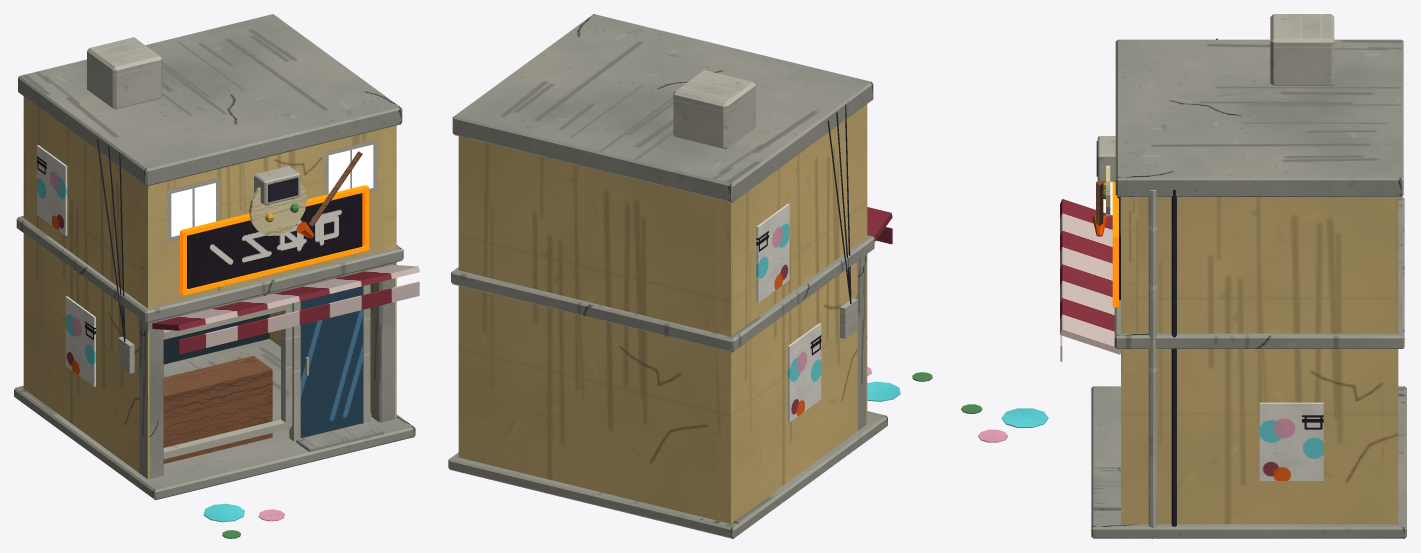
File: servico_design-grafico.glb
3 views of the same model, side by side, from view 1: azimuth 30°, elevation 25°; view 2: azimuth 150°, elevation 25°; view 3: azimuth 270°, elevation 25° (orthographic). The views are drawn at different scales.
Visible parts, largest first — view 1: servico_design-grafico; view 2: servico_design-grafico; view 3: servico_design-grafico.
Boxes of the visible parts, x1=… form: servico_design-grafico: x1=14, y1=14, x2=419, y2=538; servico_design-grafico: x1=448, y1=14, x2=932, y2=538; servico_design-grafico: x1=961, y1=14, x2=1406, y2=538.
Size of the model in its own units: 3.18 by 4.2 by 4.18.
Materials: 4 (2 with a texture image).
